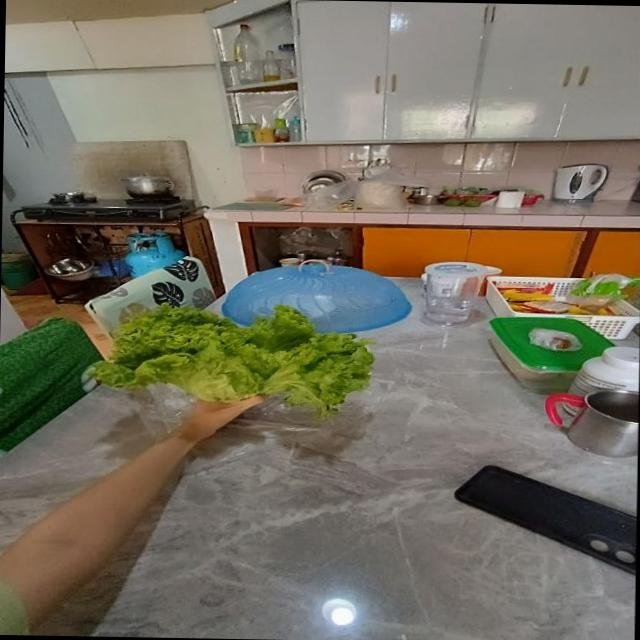Lettuce-Ready-to-Harvest: (88, 305, 373, 415)
